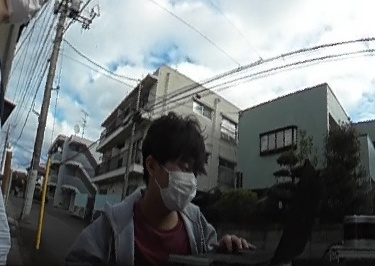person: (88, 112, 244, 266)
